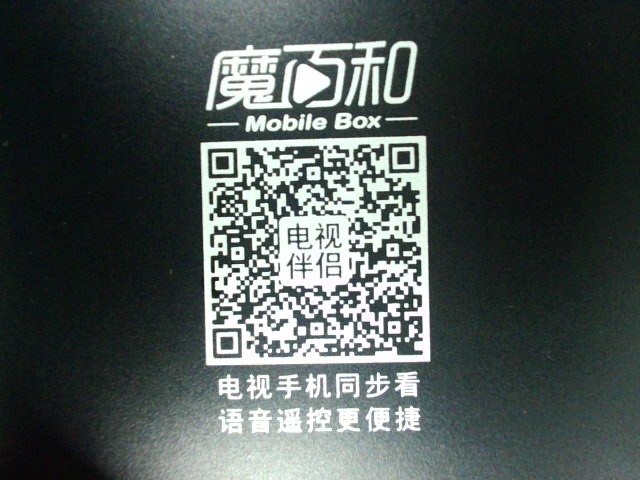AZ_MobileBox: (187, 35, 445, 436)
